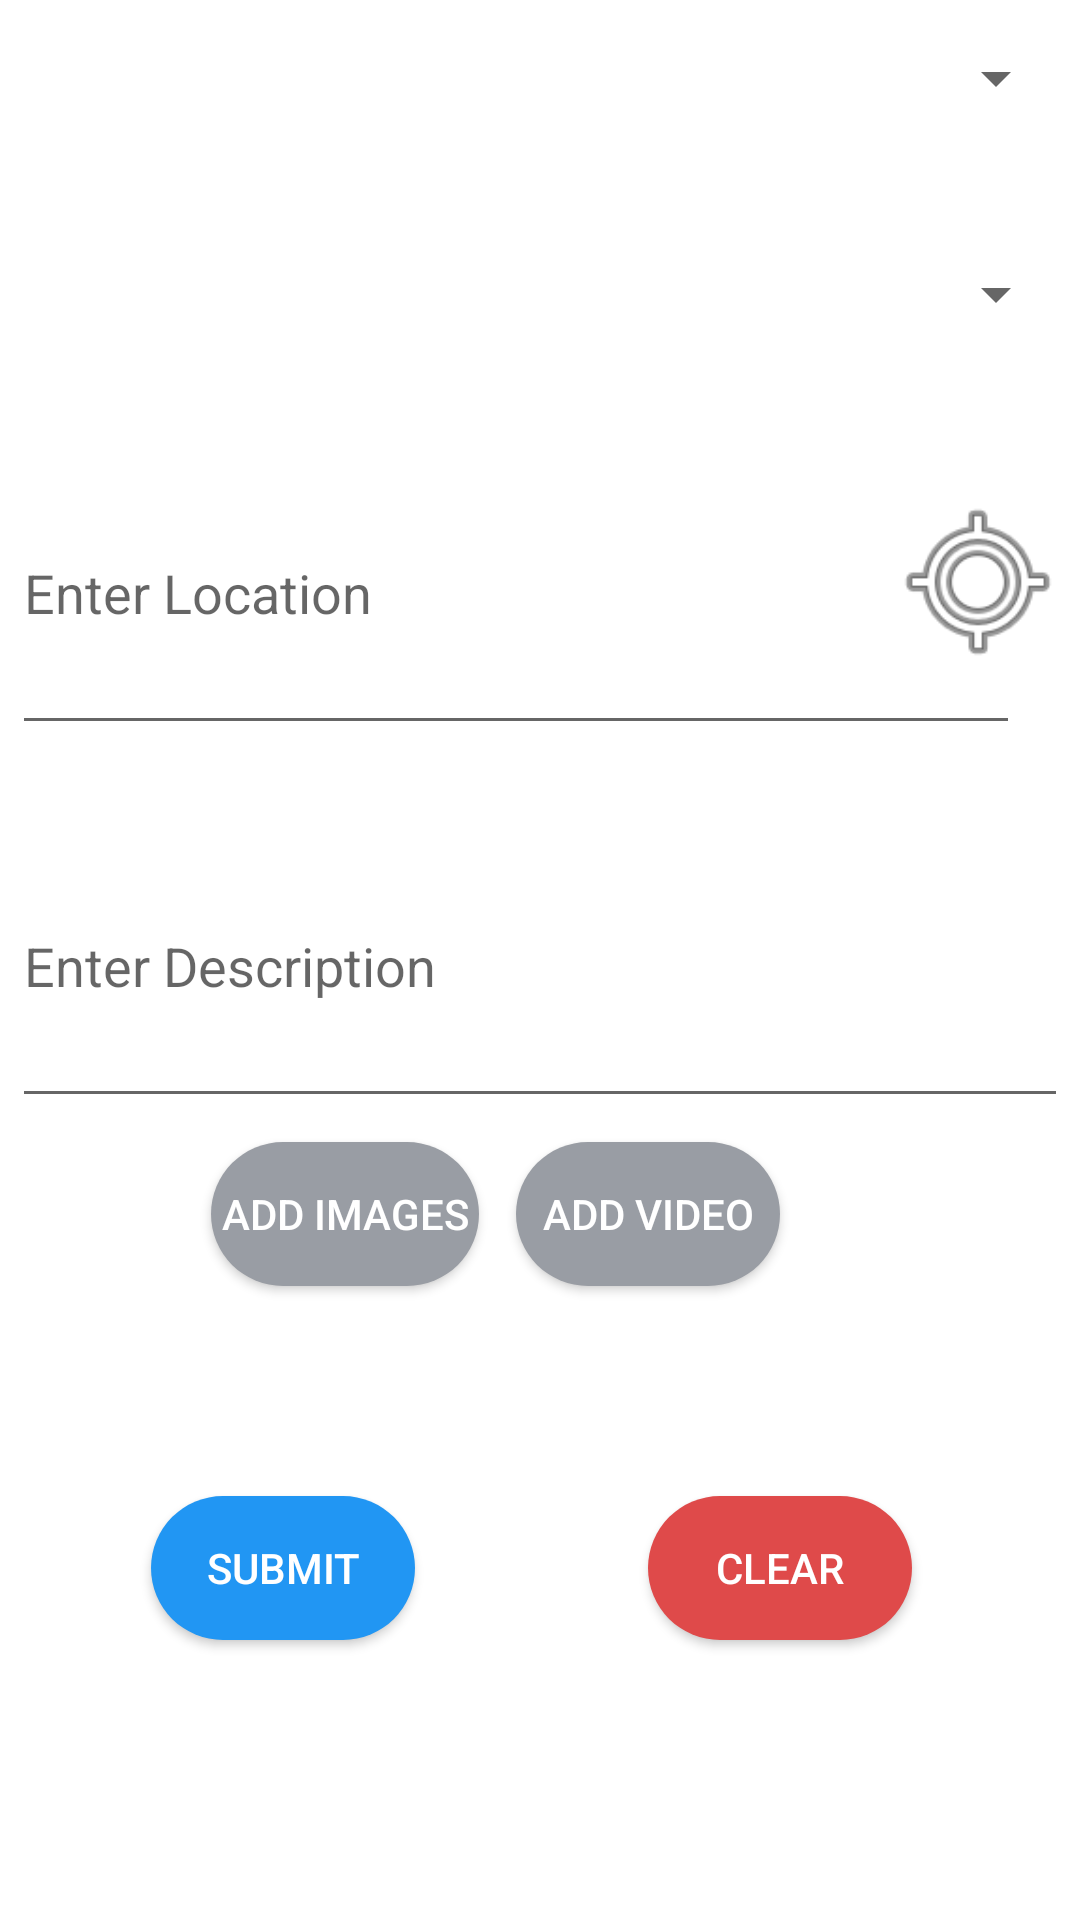

Icon click points for this 1080*1920 phone screenshot, format (x,y):
mylocation: (978,582)
